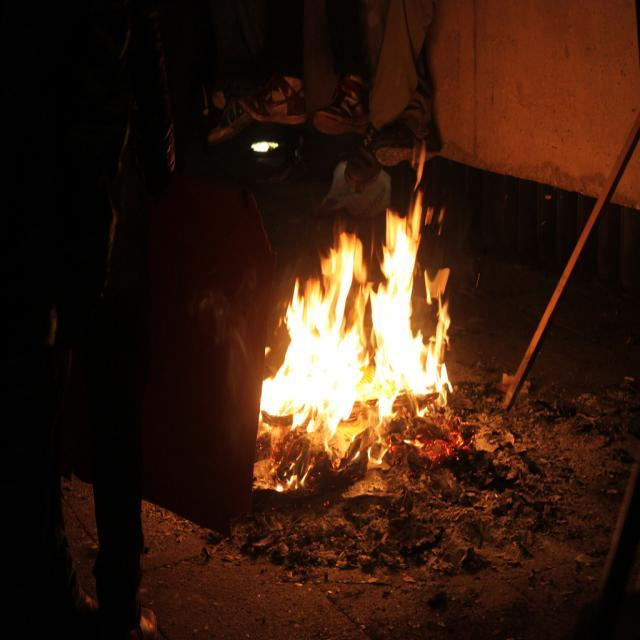Fire: (266, 190, 461, 447)
